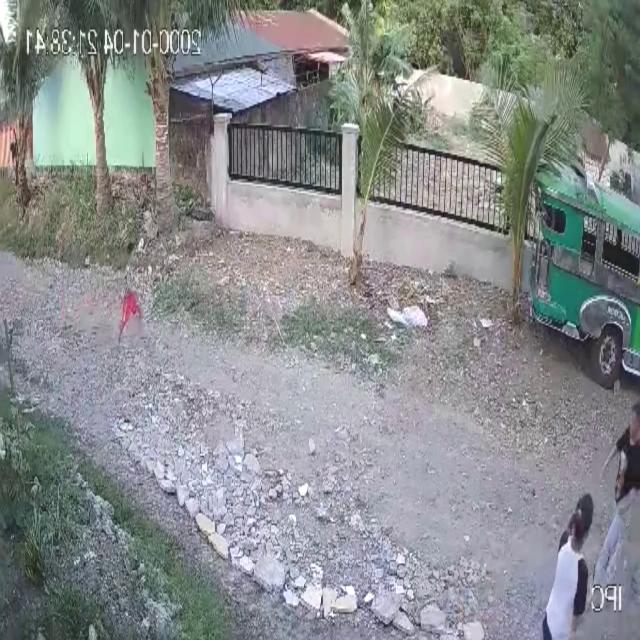running: (113, 244, 148, 355)
walking: (591, 398, 640, 613), (529, 494, 597, 640), (10, 126, 20, 190)
